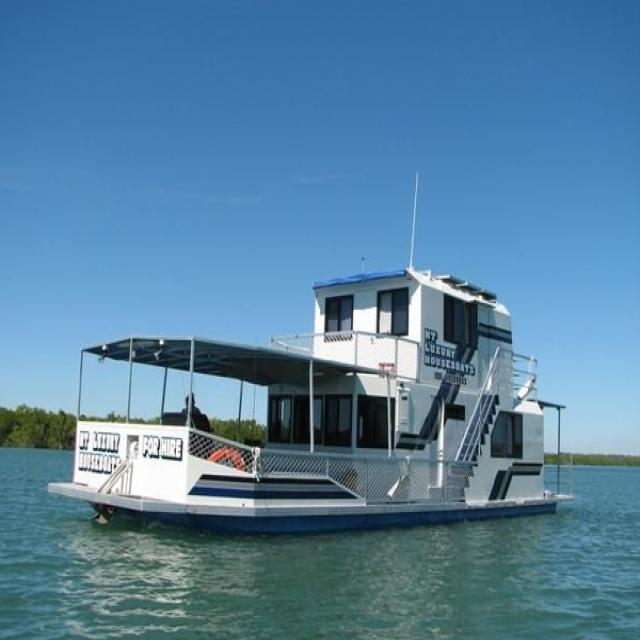passenger ship: (40, 208, 577, 531)
